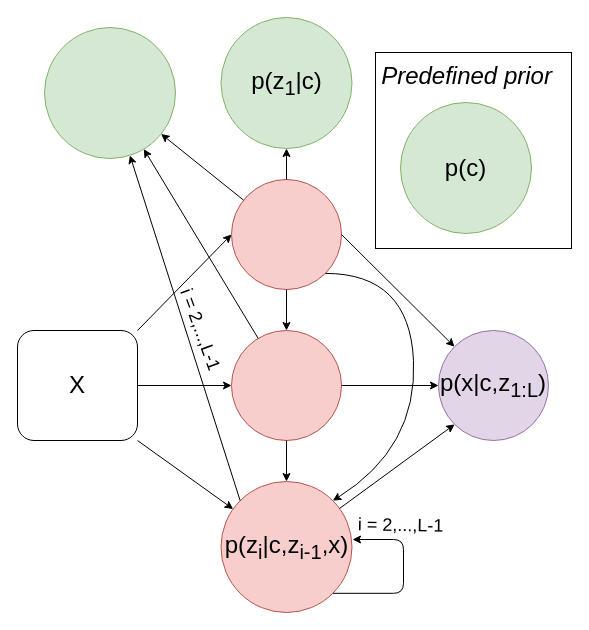
The diagram is 589 pixels wide and 630 high, and some of its shapes have lost their labels. Each missing label, with the centre of its shape:
p(c|x): point (286, 234)
p(z 1 |c,x): point (286, 385)
p(z i |c,z i-1 ): point (110, 92)
